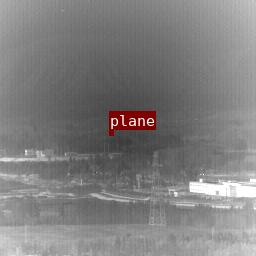plane: (109, 130, 113, 134)
